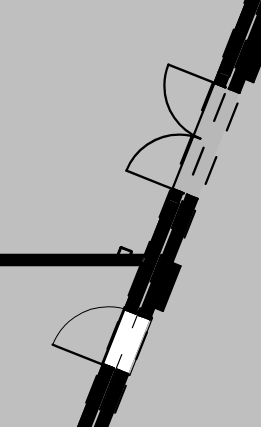door: (41, 299, 132, 369)
double door: (118, 58, 222, 191)
